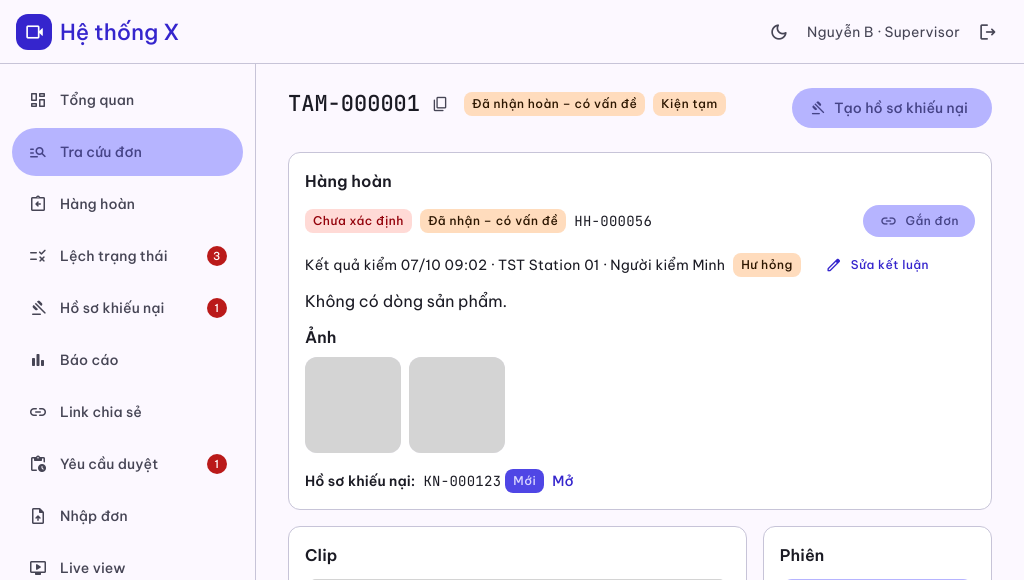
Test: Gắn đơn: PACKAGE_ALREADY_RETURNED → 'Đơn này đã có kiện hoàn được nhận.'; NOT_UNIDENTIFIED → message
Click the button "Gắn đơn": (919, 221) x1=864 y1=205 x2=975 y2=237
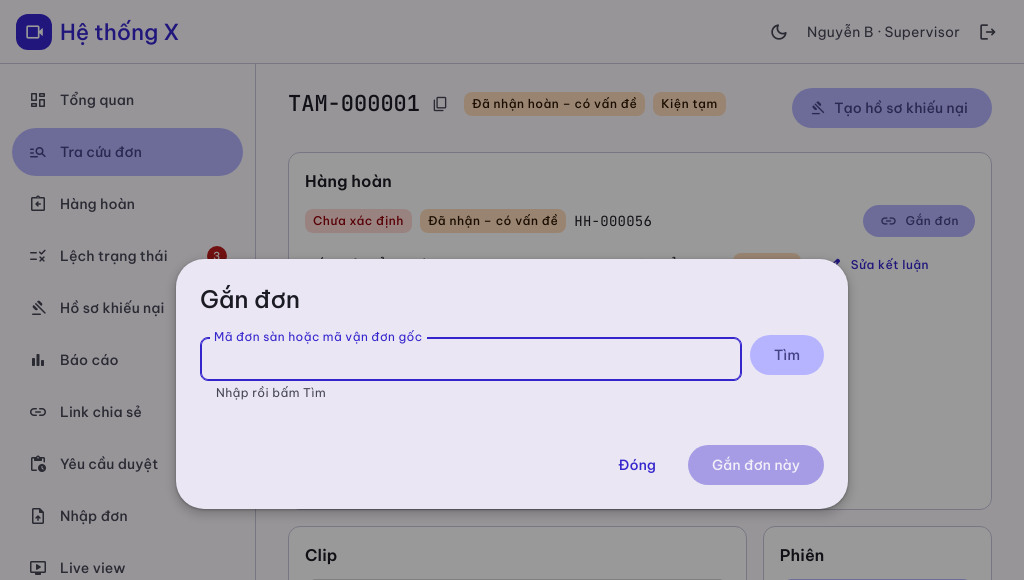
In the field labelled "Mã đơn sàn hoặc mã vận đơn gốc": (471, 359) x1=200 y1=337 x2=742 y2=381, type "SPXTST0000053"
Then press Enter
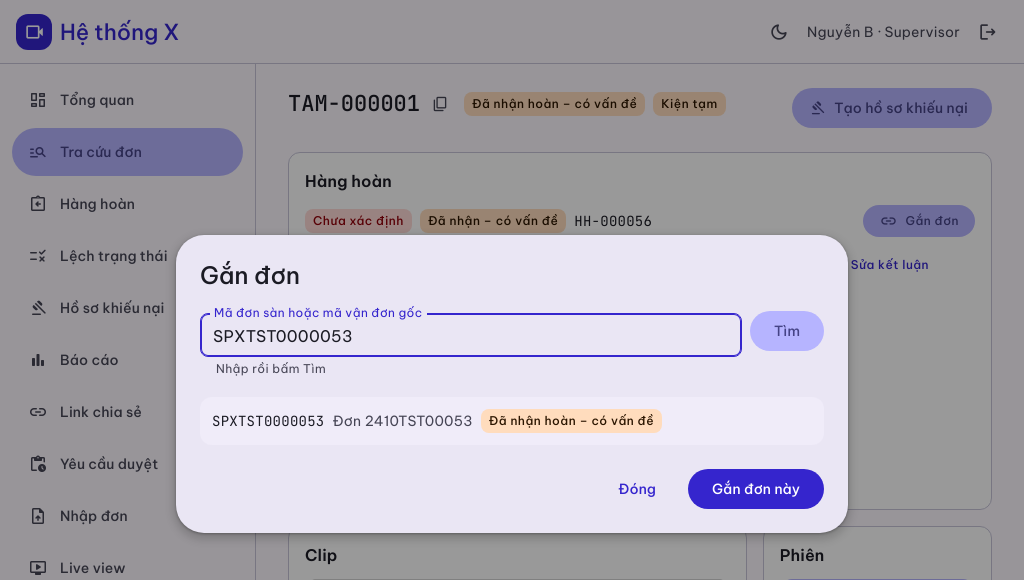
expect the element named "Đơn tìm được" is shown: met, box x1=200 y1=397 x2=824 y2=445
Click the button "Gắn đơn này": (756, 489) x1=688 y1=469 x2=824 y2=509
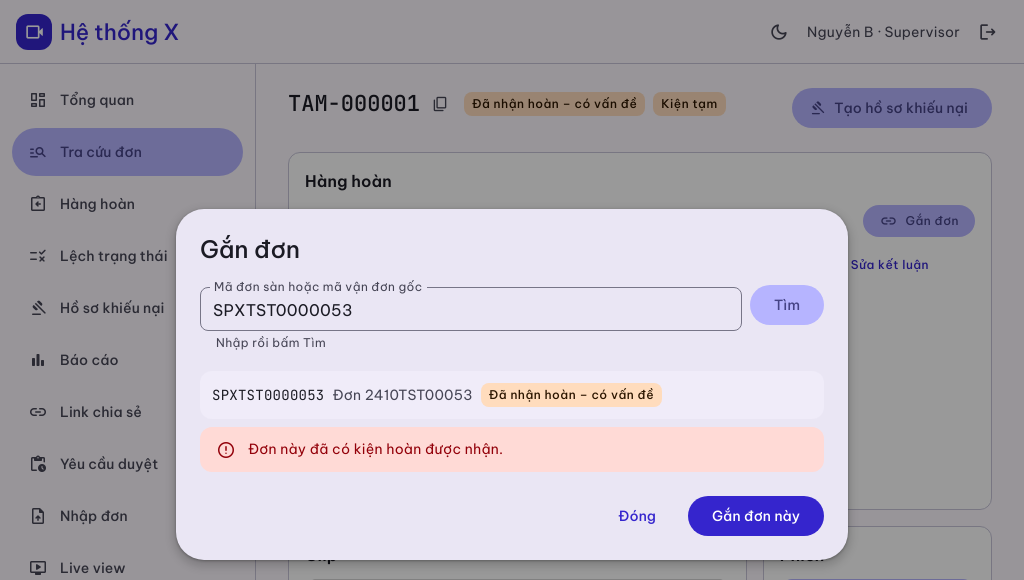
expect the text "Đơn này đã có kiện hoàn được nhận." is shown: met, box x1=248 y1=440 x2=503 y2=458
Click the button "Gắn đơn này": (756, 516) x1=688 y1=496 x2=824 y2=536
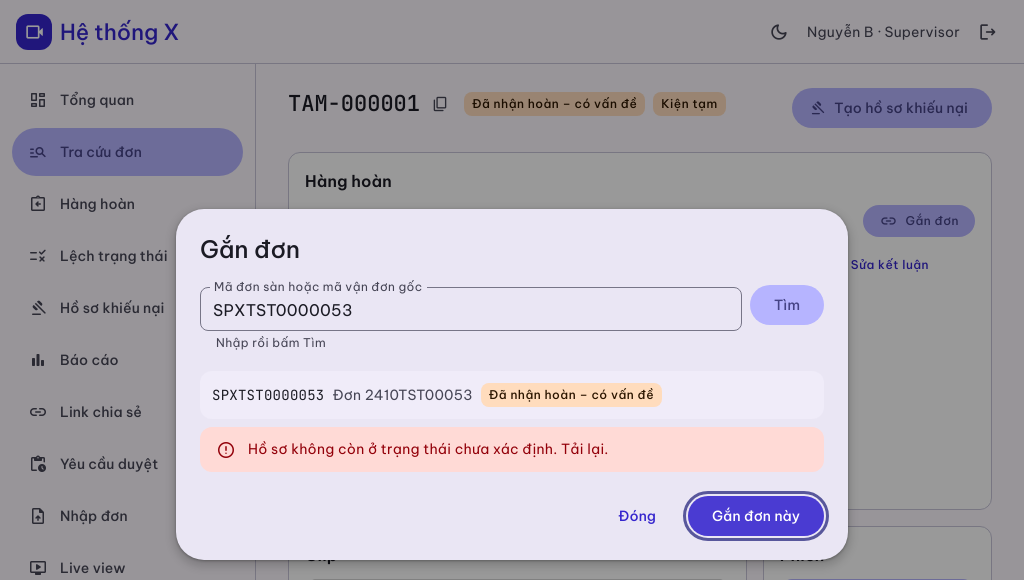
expect the text "Hồ sơ không còn ở trạng thái chưa xác định. Tải lại." is shown: met, box x1=248 y1=440 x2=609 y2=458
